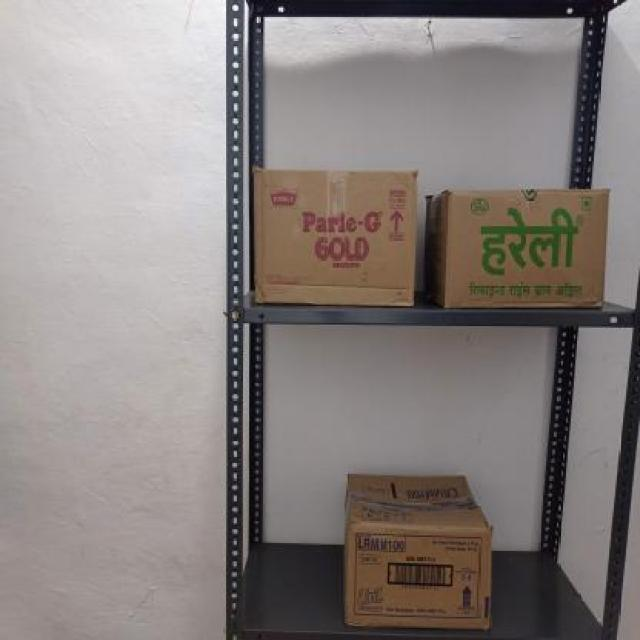box: (251, 167, 413, 306), (446, 189, 608, 309), (347, 527, 495, 621)
